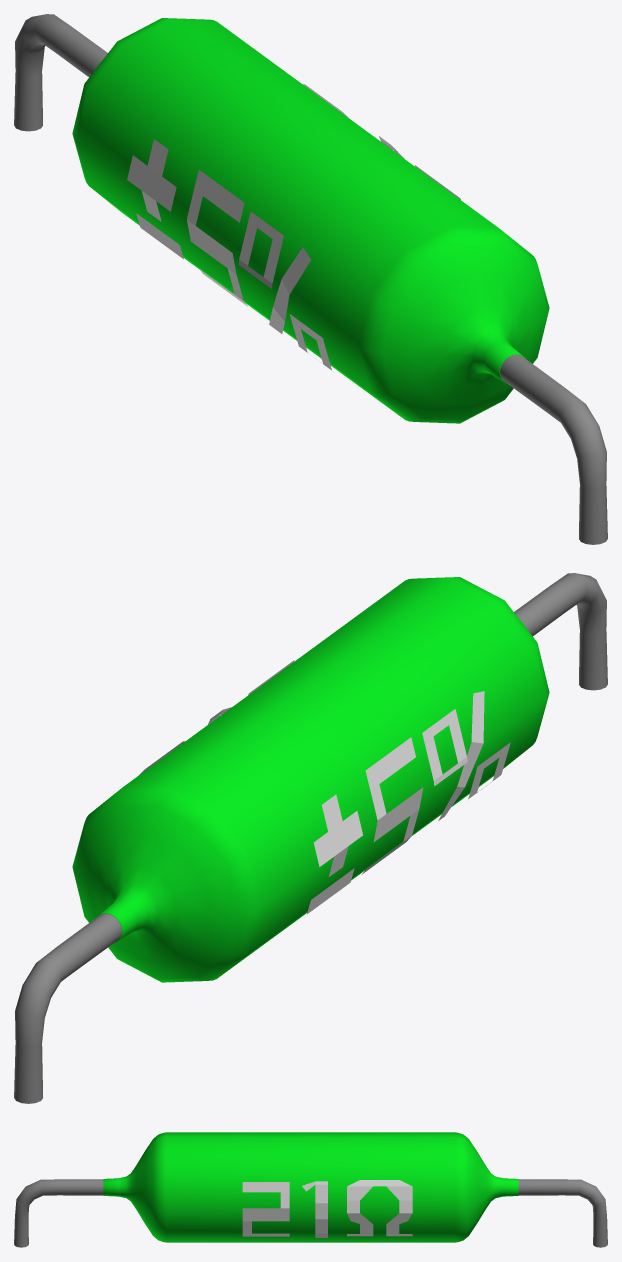
Rendered from resistor_cylinder_21Ohm.fbx.
3 renders of one model, top to bottom at view 1: azimuth 30°, elevation 25°; view 2: azimuth 150°, elevation 25°; view 3: azimuth 270°, elevation 25°, orthographic. The views are drawn at different scales.
Parts seen in each view (by area): view 1: rezystor_cylinder. 21Ohm; view 2: rezystor_cylinder. 21Ohm; view 3: rezystor_cylinder. 21Ohm.
Boxes of the visible parts, box(x1,y1,x2,y2) form: rezystor_cylinder. 21Ohm: box(14, 14, 607, 544); rezystor_cylinder. 21Ohm: box(14, 573, 607, 1103); rezystor_cylinder. 21Ohm: box(14, 1132, 607, 1247).
Size of the model in its own units: 207 by 214 by 1074.
